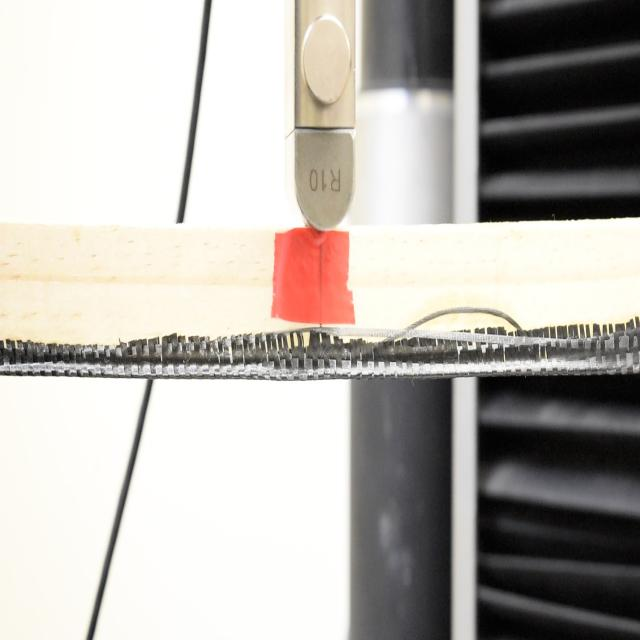wood: (0, 221, 640, 374)
